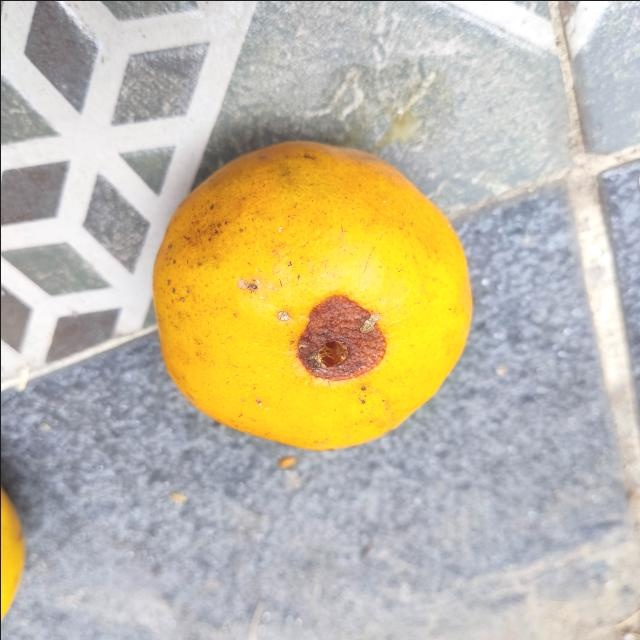agrume: (147, 137, 473, 453)
